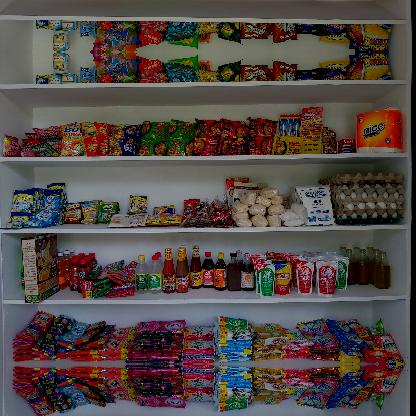Koko-Krunch: (20, 233, 61, 304)
